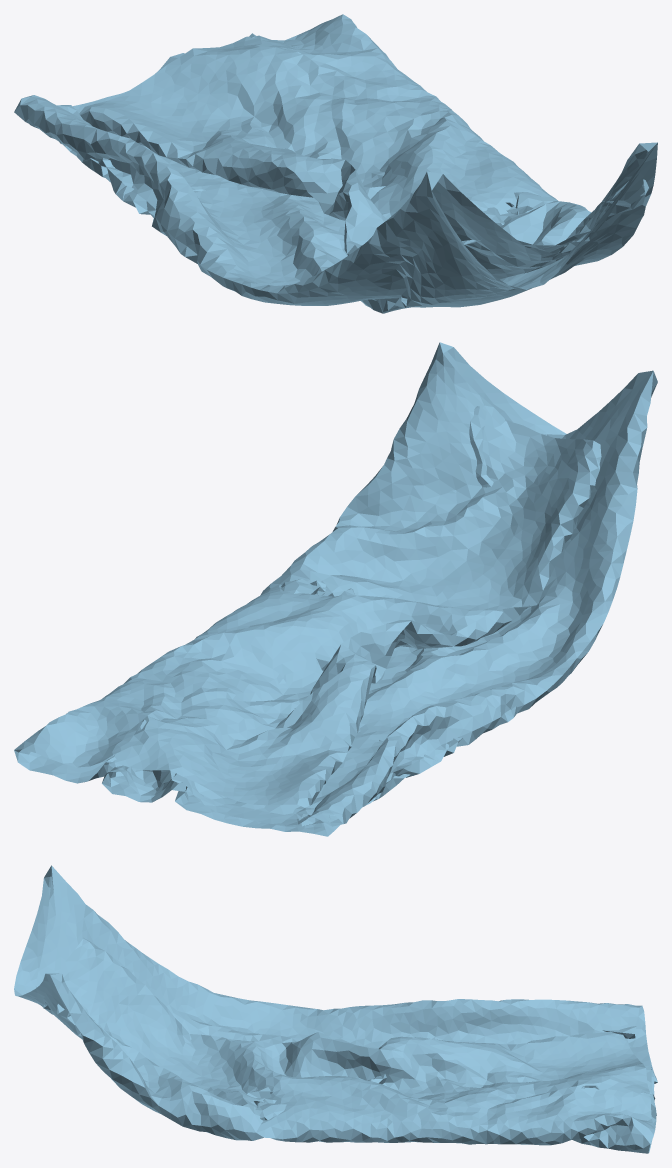
The model's file is frame_03.glb.
3 renders of one model, top to bottom at view 1: azimuth 30°, elevation 25°; view 2: azimuth 150°, elevation 25°; view 3: azimuth 270°, elevation 25°, orthographic. The views are drawn at different scales.
Parts seen in each view (by area): view 1: frame_03.obj; view 2: frame_03.obj; view 3: frame_03.obj.
Part boxes in pixels (<box>): frame_03.obj: <box>14,14,657,313</box>; frame_03.obj: <box>14,342,657,836</box>; frame_03.obj: <box>14,865,657,1153</box>.
Size of the model in its own units: 0.8794 by 0.5328 by 1.73.
